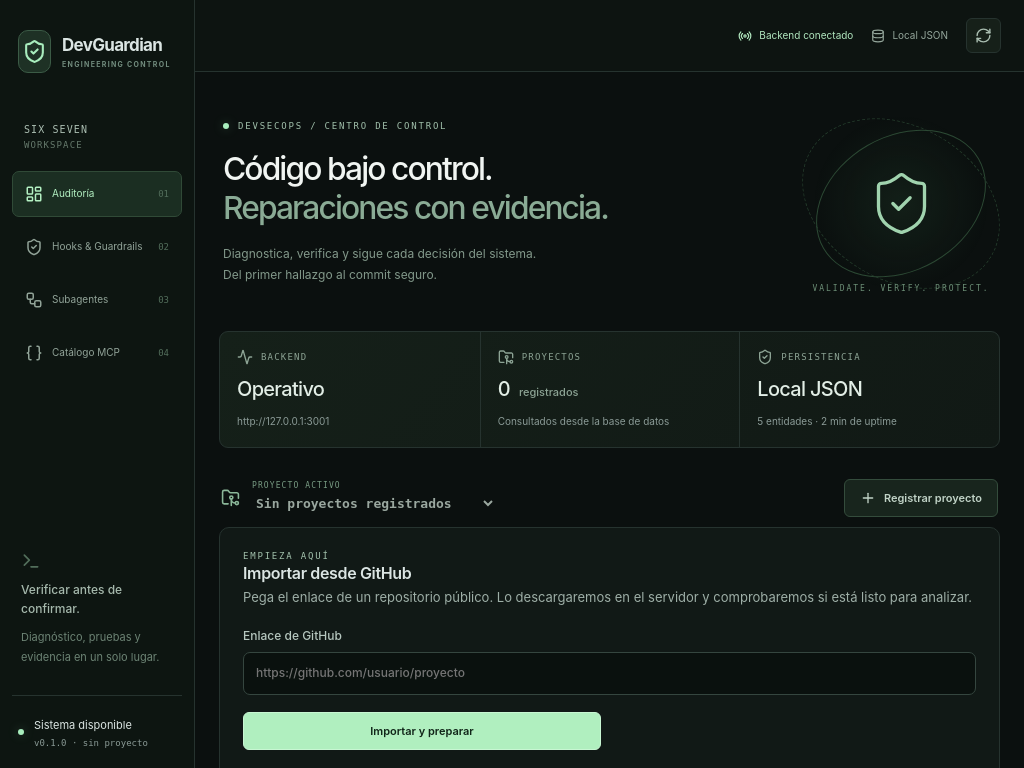
Test: GitHub project import › selects an imported project and opens Audit with its actual source file
expect the text "Proyecto listo para análisis estático" is not shown: met
In the field labelled "Enlace de GitHub": [610, 673] box [243,652,976,695], type "https://github.com/a/b"
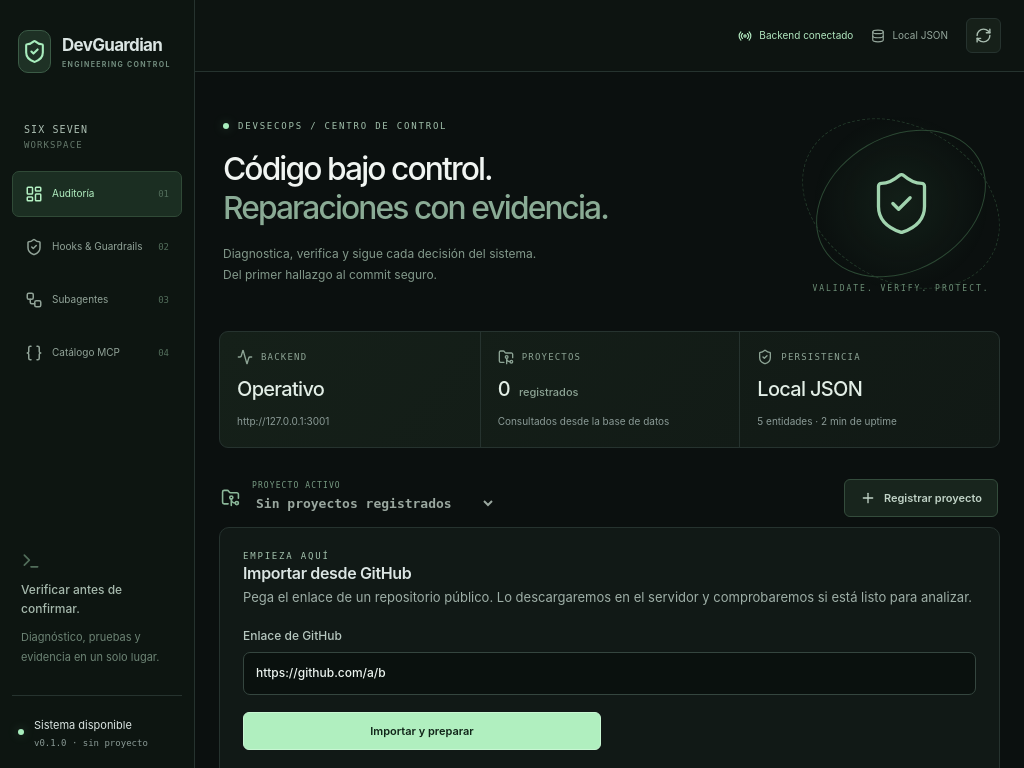
Click the button "Importar y preparar": [422, 731] box [243,712,601,750]
(page scrolled)
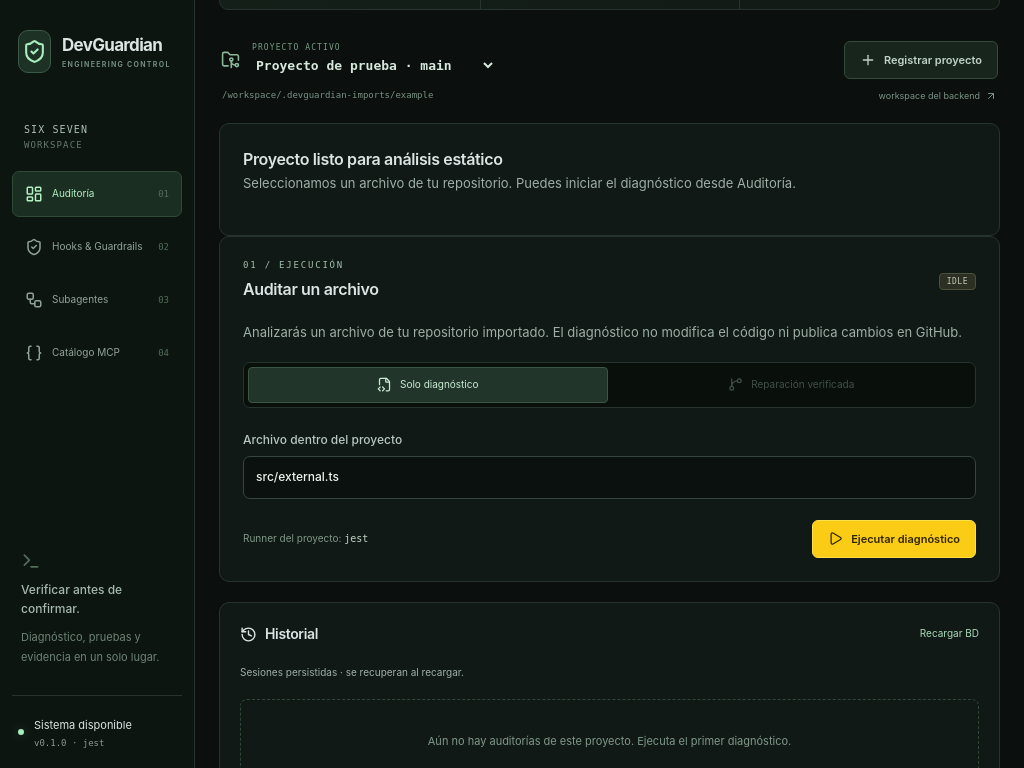
expect the field labelled "Archivo dentro del proyecto" holds "src/external.ts": met, box [243,456,976,499]
expect the heading "Proyecto listo para análisis estático" is shown: met, box [243,149,503,169]
expect the button "Reparación verificada" is disabled: met, box [612,367,971,402]
